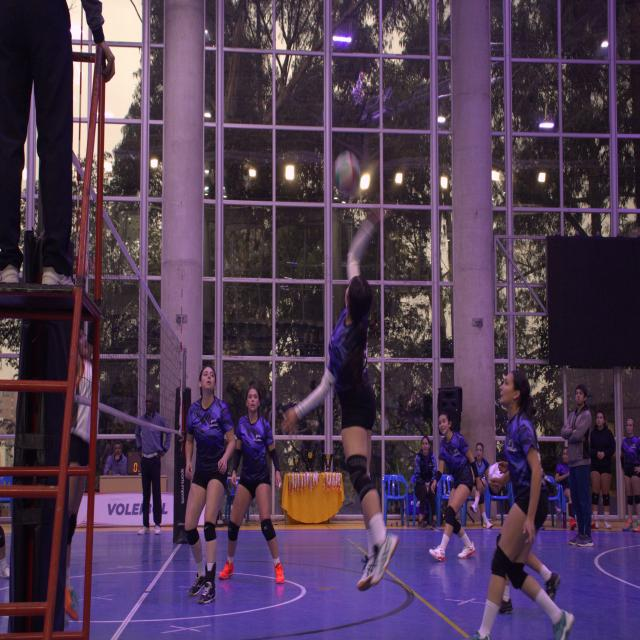volleyball: (334, 150, 360, 193)
